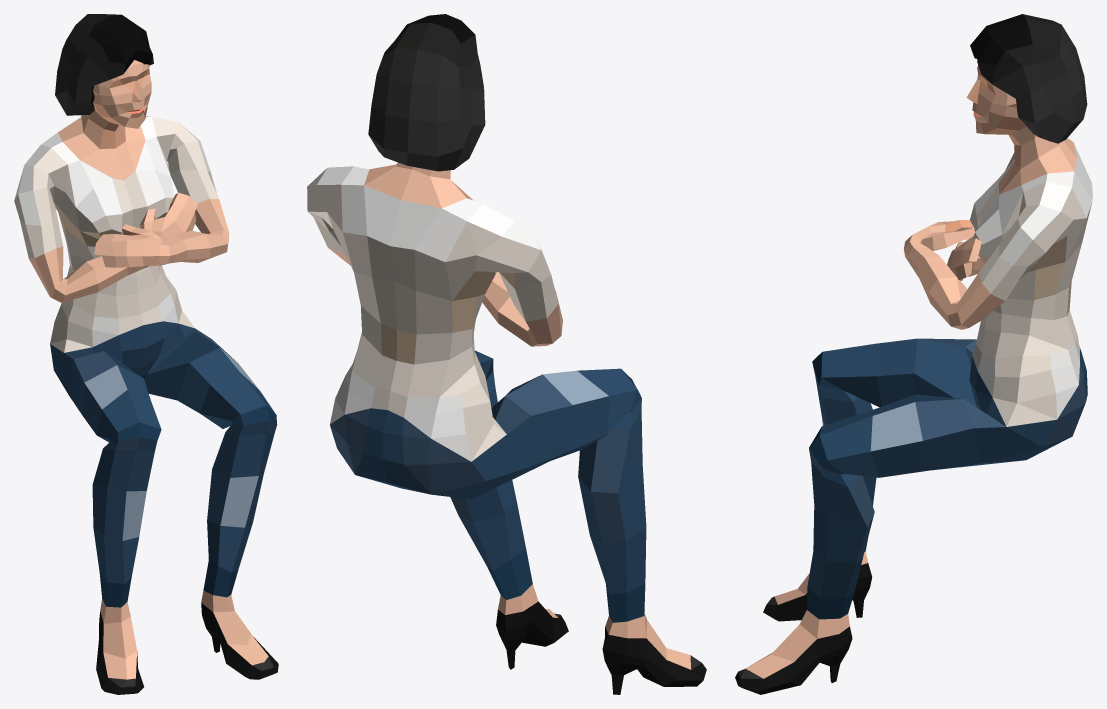
3 renders of one model, left to right at view 1: azimuth 30°, elevation 25°; view 2: azimuth 150°, elevation 25°; view 3: azimuth 270°, elevation 25°, orthographic. The views are drawn at different scales.
Visible parts, largest first — view 1: lpFemale_casual_G_sitting_handscrossed_peopleColors_0; view 2: lpFemale_casual_G_sitting_handscrossed_peopleColors_0; view 3: lpFemale_casual_G_sitting_handscrossed_peopleColors_0.
Boxes of the visible parts, left/top/right/bottom form: lpFemale_casual_G_sitting_handscrossed_peopleColors_0: left=14, top=14, right=278, bottom=694; lpFemale_casual_G_sitting_handscrossed_peopleColors_0: left=307, top=14, right=706, bottom=694; lpFemale_casual_G_sitting_handscrossed_peopleColors_0: left=735, top=14, right=1092, bottom=694.
Bounding box in the file's own units: 51.69 × 138 × 68.71.
